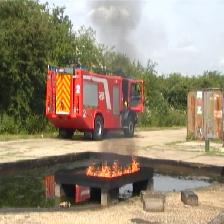fire: (86, 154, 140, 178)
